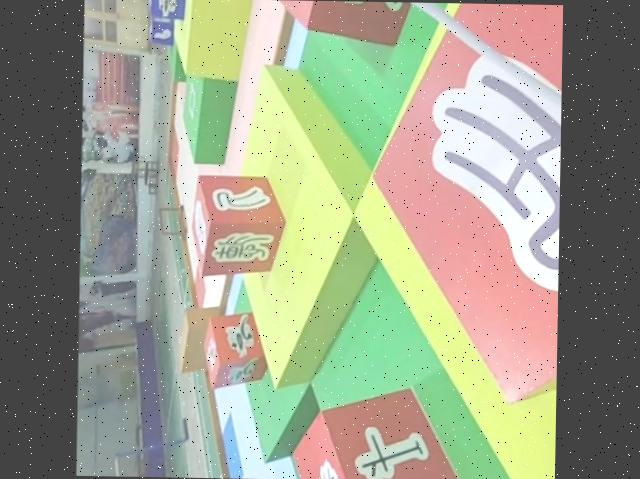R1: (203, 309, 269, 388)
R2 Fake: (367, 1, 563, 402), (189, 172, 286, 276), (278, 0, 436, 46)
R2 Real: (286, 382, 471, 479)
